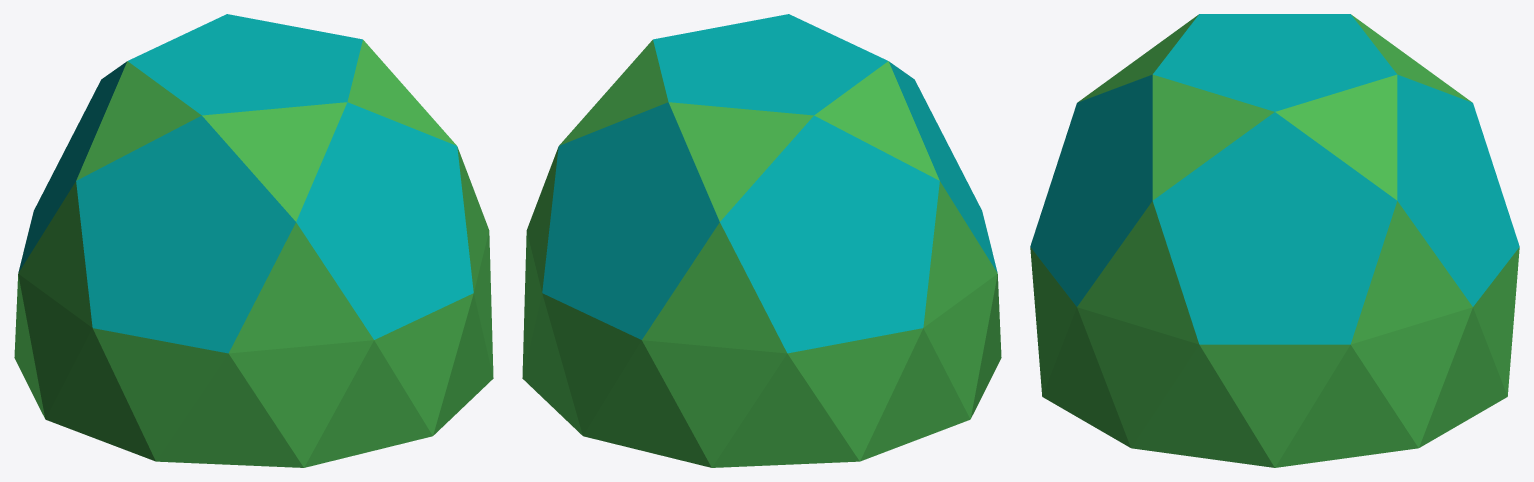
The model's file is J25.RotondaPentagonalGiroelongada.gltf.
3 views of the same model, side by side, from view 1: azimuth 30°, elevation 25°; view 2: azimuth 150°, elevation 25°; view 3: azimuth 270°, elevation 25° (orthographic).
Visible parts, largest first — view 1: J25.RotondaPentagonalGiroelongada; view 2: J25.RotondaPentagonalGiroelongada; view 3: J25.RotondaPentagonalGiroelongada.
Boxes of the visible parts, x1=… form: J25.RotondaPentagonalGiroelongada: x1=14, y1=14, x2=493, y2=467; J25.RotondaPentagonalGiroelongada: x1=522, y1=14, x2=1001, y2=467; J25.RotondaPentagonalGiroelongada: x1=1030, y1=14, x2=1519, y2=467.
Size of the model in its own units: 16.2 by 11.23 by 16.2.
